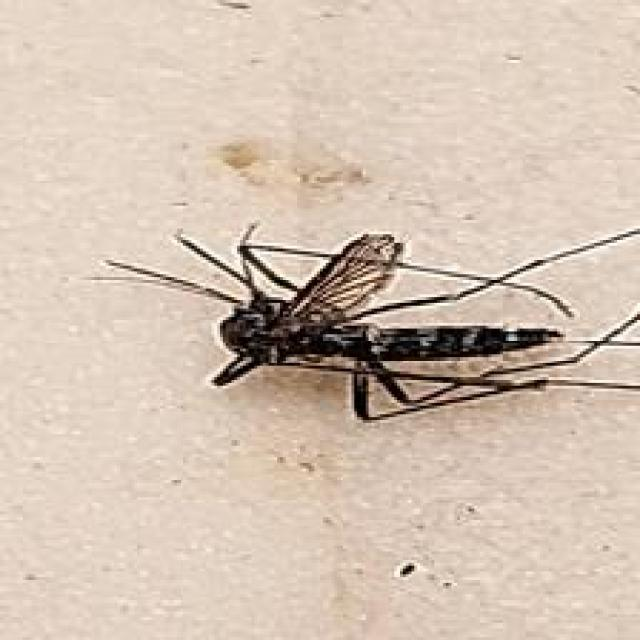Aedes albopictus: (85, 217, 640, 422)
